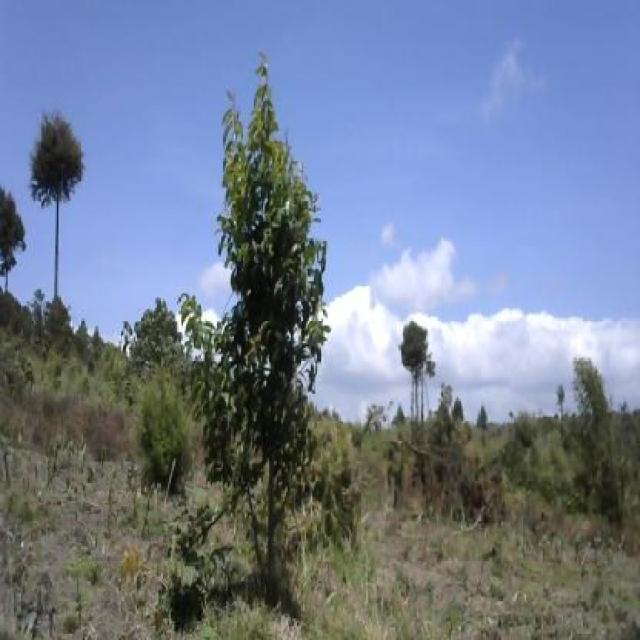tree trunk: (220, 132, 305, 592)
